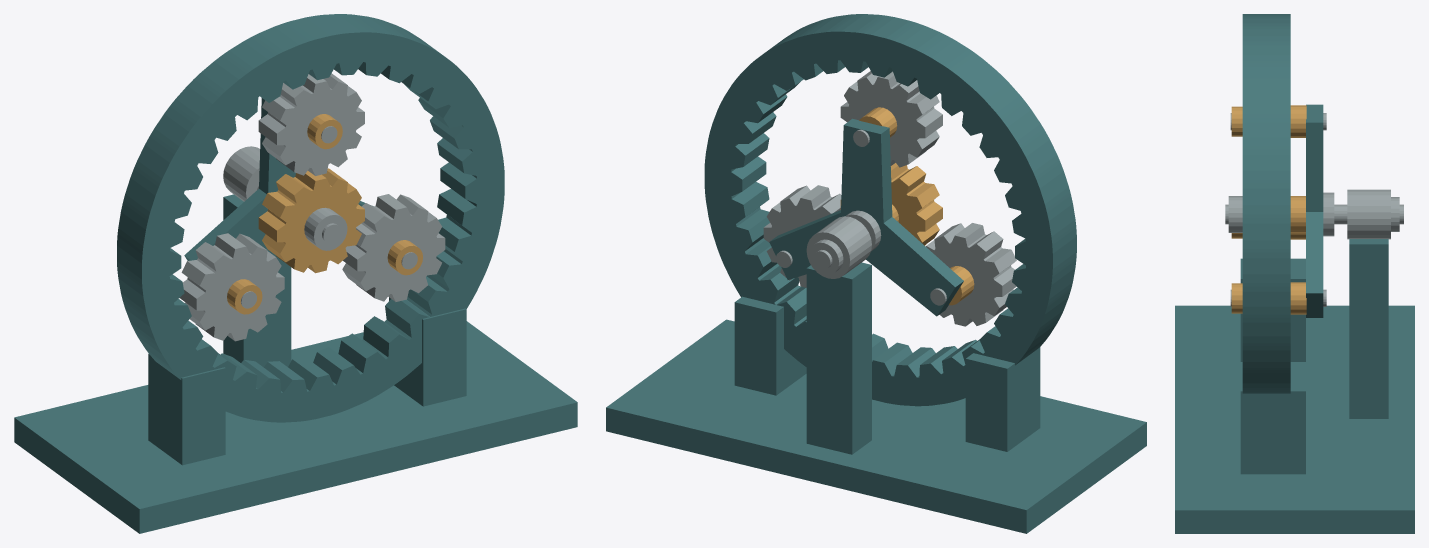
3 views of the same model, side by side, from view 1: azimuth 30°, elevation 25°; view 2: azimuth 150°, elevation 25°; view 3: azimuth 270°, elevation 25° (orthographic). The views are drawn at different scales.
Visible parts, largest first — view 1: WholeThirtySixToothInternalRing, WholeGroundedDisplayBed, Planet2WholeBoredExternalGear, Planet3WholeBoredExternalGear, Planet1WholeBoredExternalGear, WholeTwelveToothCentralSun, LeftWholeRingRootSupport, RightWholeRingRootSupport, WholeRearCentralShaftPedestal, WholeThreeArmRearPlanetCarrier, WholeRearBoredCentralBearing, WholeSunFrontShaftRetainer (+3 smaller); view 2: WholeThirtySixToothInternalRing, WholeGroundedDisplayBed, WholeRearCentralShaftPedestal, WholeThreeArmRearPlanetCarrier, LeftWholeRingRootSupport, Planet2WholeBoredExternalGear, RightWholeRingRootSupport, Planet1WholeBoredExternalGear, WholeTwelveToothCentralSun, Planet3WholeBoredExternalGear, WholeRearBoredCentralBearing, WholeRearShaftOuterStop; view 3: WholeGroundedDisplayBed, WholeThirtySixToothInternalRing, WholeRearCentralShaftPedestal, RightWholeRingRootSupport, WholeThreeArmRearPlanetCarrier, WholeRearBoredCentralBearing, LeftWholeRingRootSupport, WholeSunRearThrustSpacer, WholeSunFrontShaftRetainer, Planet3WholeRearThrustSpacer, Planet1WholeRearThrustSpacer, WholeRearCarrierHubStop (+4 smaller).
Boxes of the visible parts, box(x1,y1,x2,y2) form: WholeThirtySixToothInternalRing: box(117, 14, 504, 422); WholeGroundedDisplayBed: box(14, 321, 577, 533); Planet2WholeBoredExternalGear: box(180, 233, 284, 341); Planet3WholeBoredExternalGear: box(342, 194, 445, 301); Planet1WholeBoredExternalGear: box(258, 73, 364, 175); WholeTwelveToothCentralSun: box(258, 168, 364, 273); LeftWholeRingRootSupport: box(148, 353, 225, 465); RightWholeRingRootSupport: box(389, 297, 466, 406); WholeRearCentralShaftPedestal: box(223, 194, 291, 366); WholeThreeArmRearPlanetCarrier: box(184, 98, 373, 260); WholeRearBoredCentralBearing: box(223, 146, 259, 201); WholeSunFrontShaftRetainer: box(304, 207, 347, 250); WholeThirtySixToothInternalRing: box(704, 14, 1076, 406); WholeGroundedDisplayBed: box(606, 319, 1146, 533); WholeRearCentralShaftPedestal: box(806, 262, 871, 454); WholeThreeArmRearPlanetCarrier: box(769, 118, 963, 316); LeftWholeRingRootSupport: box(965, 347, 1040, 451); Planet2WholeBoredExternalGear: box(926, 223, 1016, 326); RightWholeRingRootSupport: box(734, 286, 806, 395); Planet1WholeBoredExternalGear: box(840, 71, 942, 167); WholeTwelveToothCentralSun: box(840, 163, 942, 245); Planet3WholeBoredExternalGear: box(763, 185, 841, 287); WholeRearBoredCentralBearing: box(806, 216, 871, 278); WholeRearShaftOuterStop: box(809, 239, 843, 275); WholeGroundedDisplayBed: box(1175, 305, 1414, 533); WholeThirtySixToothInternalRing: box(1242, 14, 1290, 393); WholeRearCentralShaftPedestal: box(1349, 239, 1388, 418); RightWholeRingRootSupport: box(1240, 371, 1305, 474); WholeThreeArmRearPlanetCarrier: box(1306, 104, 1323, 317); WholeRearBoredCentralBearing: box(1347, 189, 1390, 239); LeftWholeRingRootSupport: box(1240, 258, 1305, 361); WholeSunRearThrustSpacer: box(1290, 196, 1305, 232); WholeSunFrontShaftRetainer: box(1228, 196, 1242, 232); Planet3WholeRearThrustSpacer: box(1290, 282, 1306, 314); Planet1WholeRearThrustSpacer: box(1290, 105, 1306, 137); WholeRearCarrierHubStop: box(1323, 192, 1334, 236).
Size of the model in its own units: 2.22 by 2.02 by 1.1.
